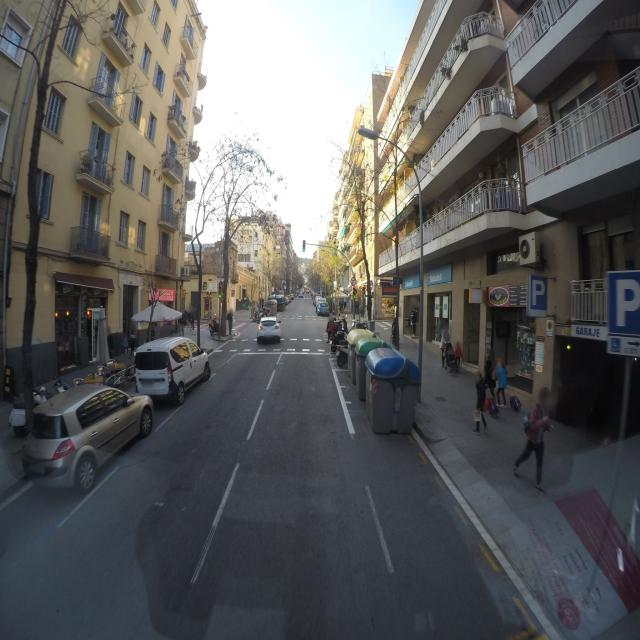car: (19, 366, 154, 494), (133, 335, 212, 406), (257, 317, 281, 343), (326, 316, 346, 342), (316, 302, 330, 317)
